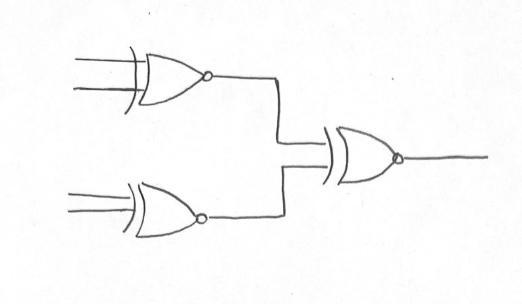XNOR: (116, 169, 227, 253), (121, 31, 220, 120), (314, 111, 413, 196)
